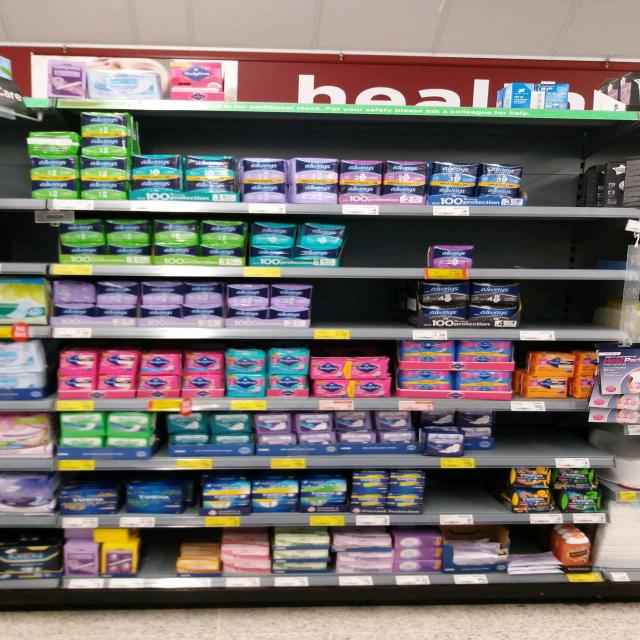empty_space: (488, 222, 606, 269), (350, 224, 406, 267), (322, 292, 402, 322), (529, 156, 576, 200), (532, 295, 602, 322), (515, 419, 580, 448), (441, 478, 492, 507), (0, 141, 24, 195), (5, 224, 42, 259)
